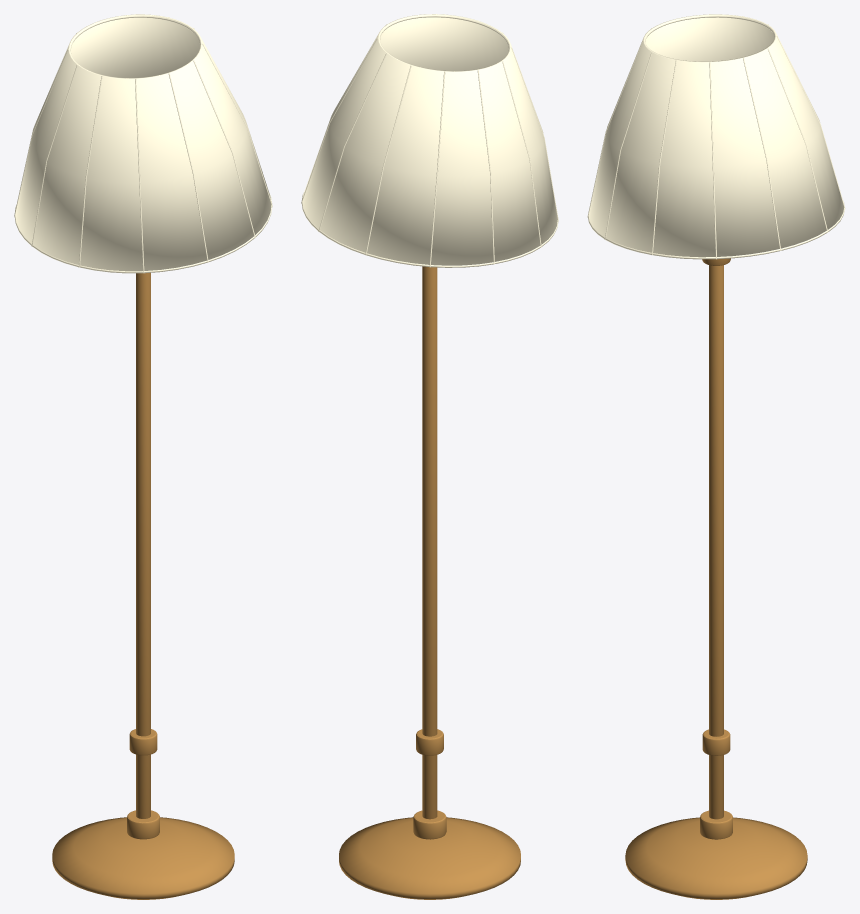
Rendered from lamp_lod0.glb.
The picture shows the model from 3 angles, left to right: view 1: azimuth 30°, elevation 25°; view 2: azimuth 150°, elevation 25°; view 3: azimuth 270°, elevation 25°; orthographic projection.
Visible parts, largest first — view 1: lampShade_LOD0, lampFoot_LOD0; view 2: lampShade_LOD0, lampFoot_LOD0; view 3: lampShade_LOD0, lampFoot_LOD0.
Boxes of the visible parts, box(x1,y1,x2,y2) form: lampShade_LOD0: box(14, 14, 272, 273); lampFoot_LOD0: box(52, 273, 234, 899); lampShade_LOD0: box(301, 14, 558, 267); lampFoot_LOD0: box(339, 266, 520, 899); lampShade_LOD0: box(587, 14, 845, 259); lampFoot_LOD0: box(625, 258, 807, 899).
Size of the model in its own units: 0.4812 by 1.71 by 0.482.
